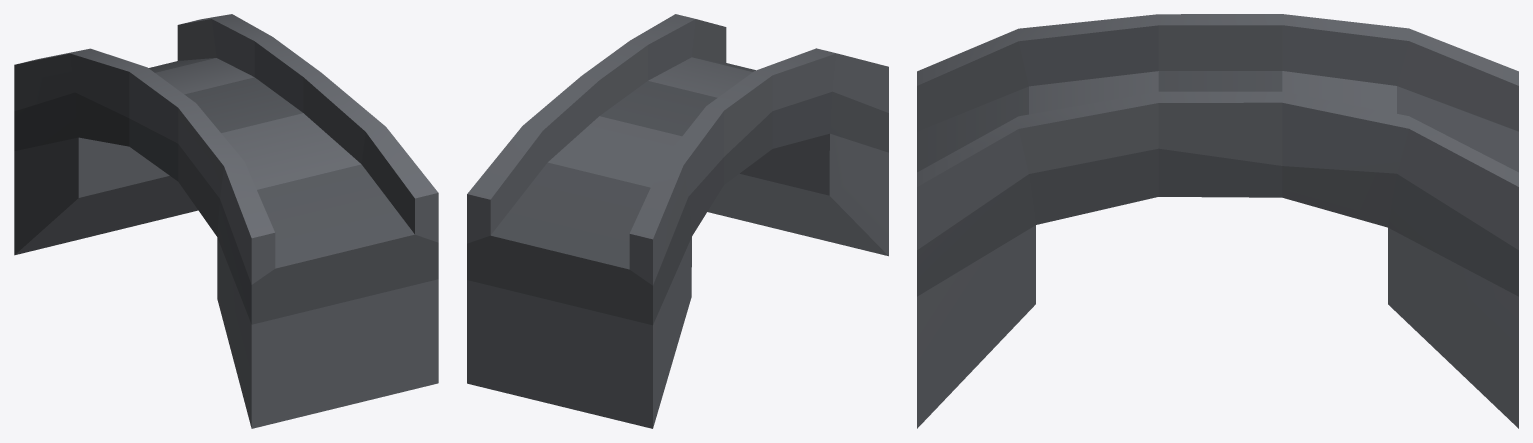
Rendered from bridge.glb.
The picture shows the model from 3 angles, left to right: view 1: azimuth 30°, elevation 25°; view 2: azimuth 150°, elevation 25°; view 3: azimuth 270°, elevation 25°; orthographic projection. The views are drawn at different scales.
Visible parts, largest first — view 1: SM_Prop_Generic_Bridge_01; view 2: SM_Prop_Generic_Bridge_01; view 3: SM_Prop_Generic_Bridge_01.
Boxes of the visible parts, box(x1,y1,x2,y2) form: SM_Prop_Generic_Bridge_01: box(14, 14, 438, 428); SM_Prop_Generic_Bridge_01: box(467, 14, 888, 428); SM_Prop_Generic_Bridge_01: box(917, 14, 1518, 428).
Bounding box in the file's own units: 2.36 × 2.97 × 5.18.
1 material, 1 textured.
